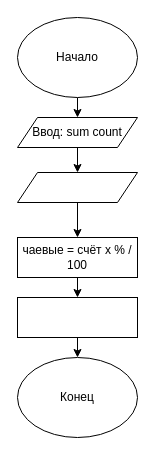
This 155x455 diagram has some shape labels left out. The box of each missing label's shape, as (x1, y1, x2, y2) in pixels:
Ввод: % chips: (16, 172, 138, 202)
итого = счёт + чай: (16, 296, 138, 338)
